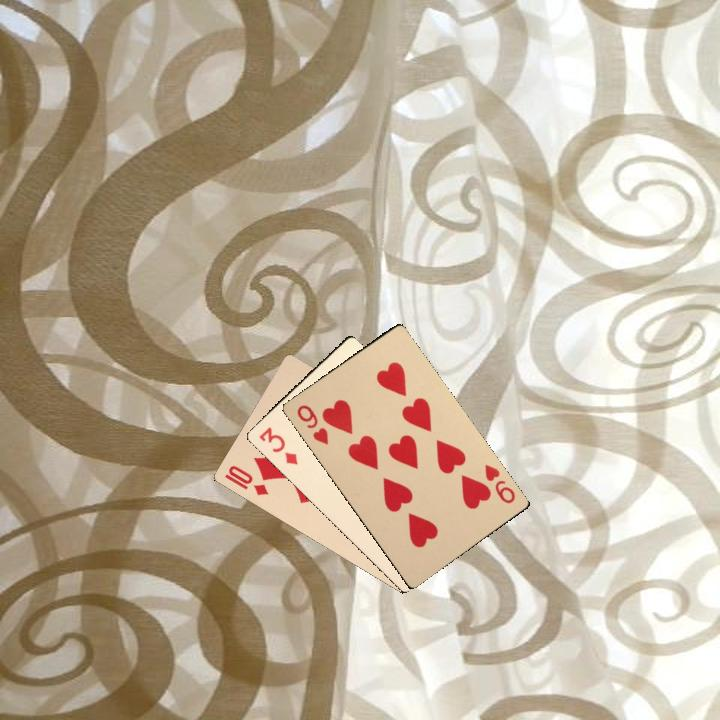10d: (221, 461, 271, 498)
3d: (255, 423, 301, 468)
9h: (293, 401, 331, 447), (480, 460, 518, 506)
